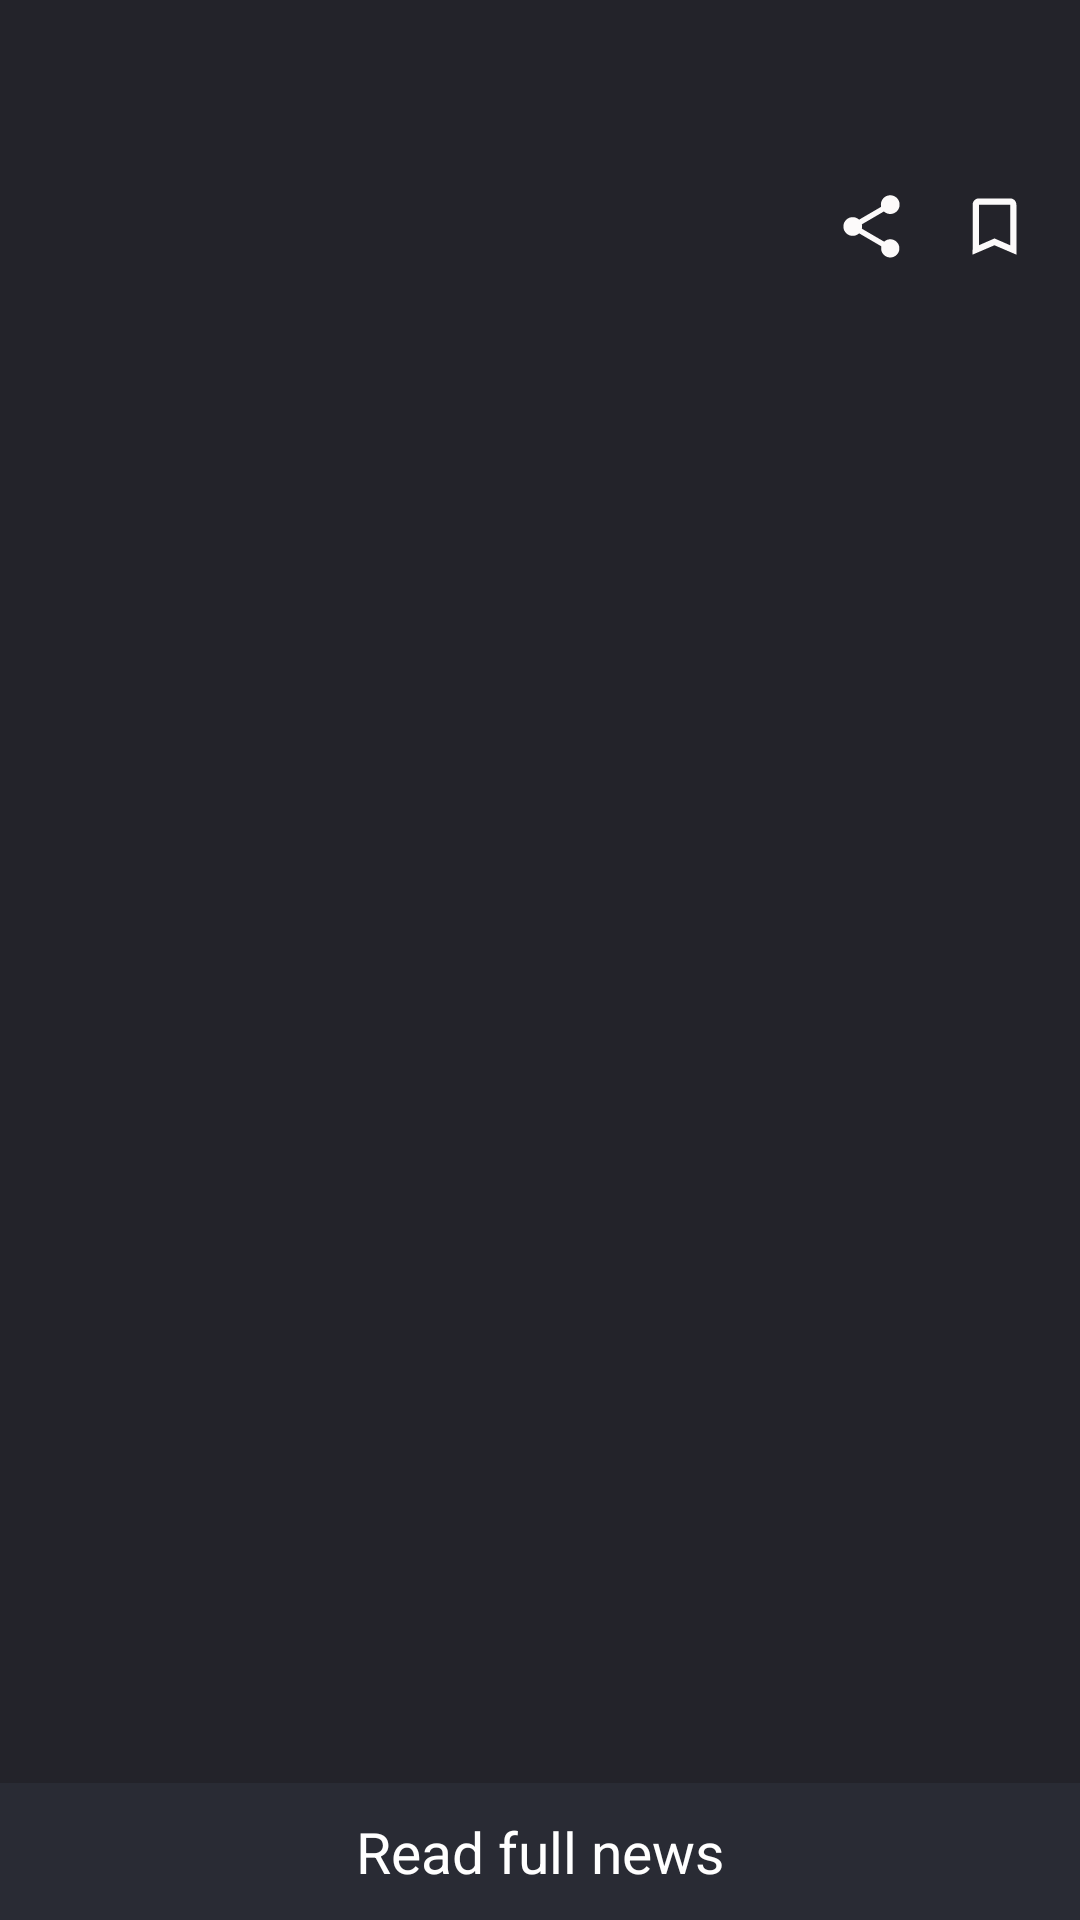

Point at icon controls on the screen. Image size 1080x1920, points as point (x, y).
bookmark: point (994, 226)
share: point (871, 226)
